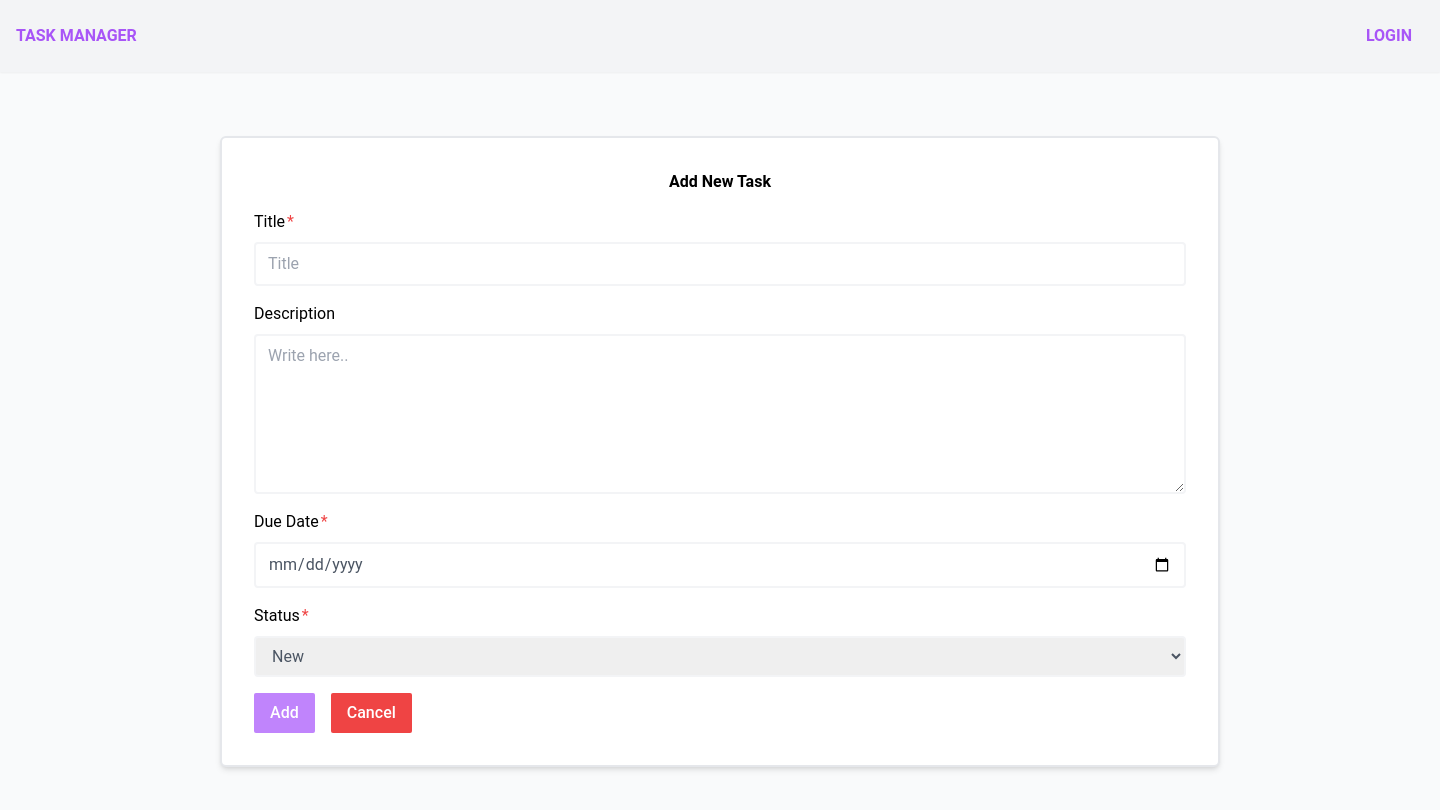
Task Component › Add Task Mode › validates form fields
This screenshot has width=1440, height=810.
Click the button "Add" at point(284, 713), box [254,693,315,733]
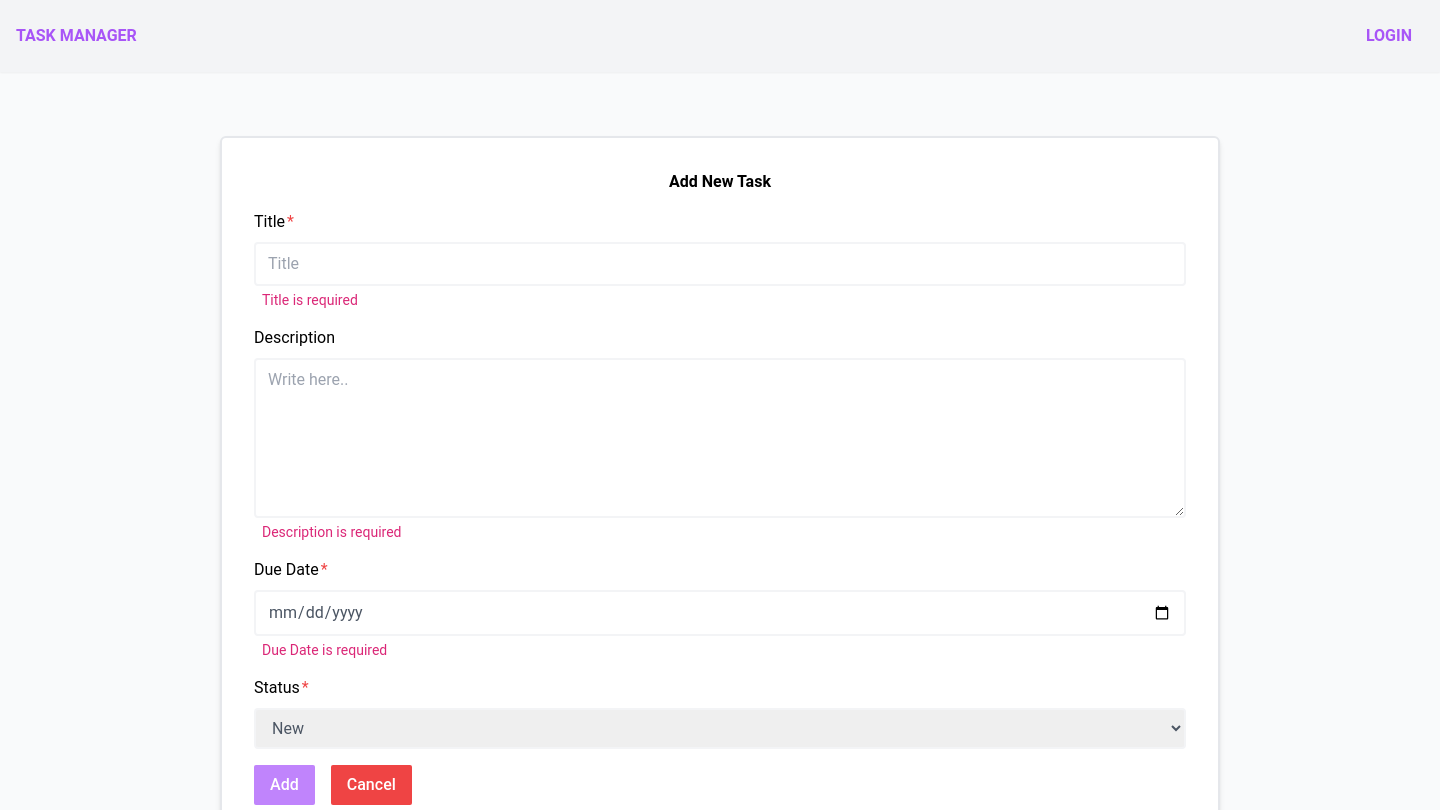
Result: the text "Title is required" is shown at [262,292,358,308]
Result: the text "Due Date is required" is shown at [262,642,387,658]
